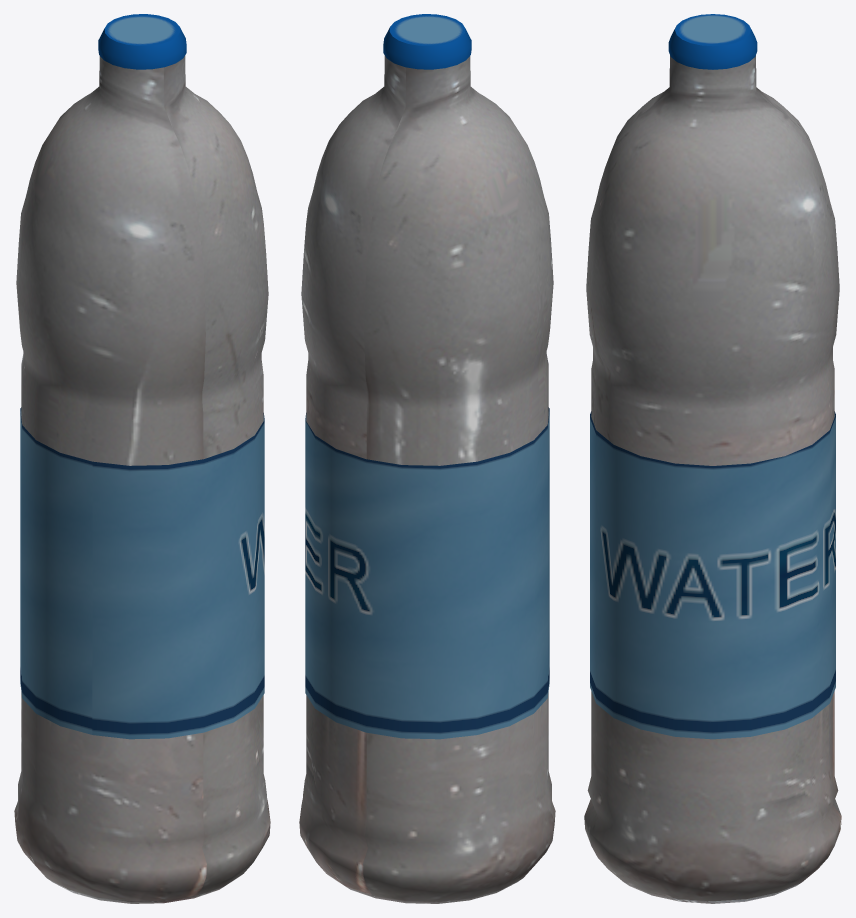
File: bottle3.obj
3 renders of one model, left to right at view 1: azimuth 30°, elevation 25°; view 2: azimuth 150°, elevation 25°; view 3: azimuth 270°, elevation 25°, orthographic.
Visible parts, largest first — view 1: bottle3; view 2: bottle3; view 3: bottle3.
Boxes of the visible parts, <box> form: bottle3: <box>14,14,270,903</box>; bottle3: <box>299,14,555,903</box>; bottle3: <box>584,14,841,903</box>.
Bounding box in the file's own units: 71.05 × 254 × 71.05.
